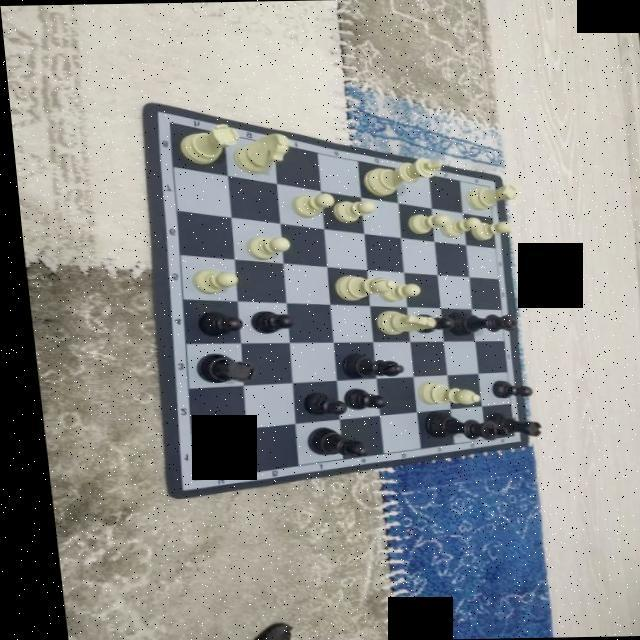chess-table-corners: (175, 474, 192, 485), (160, 118, 173, 128), (478, 182, 488, 192), (498, 432, 509, 441)
